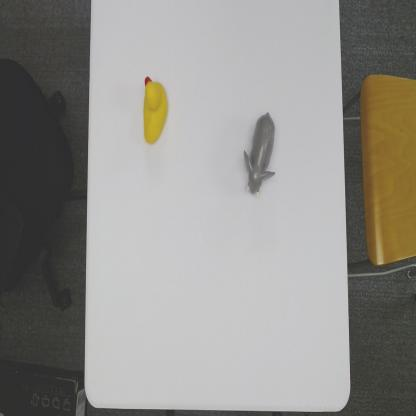Duck: (142, 73, 170, 146)
Elephant: (242, 110, 278, 199)
